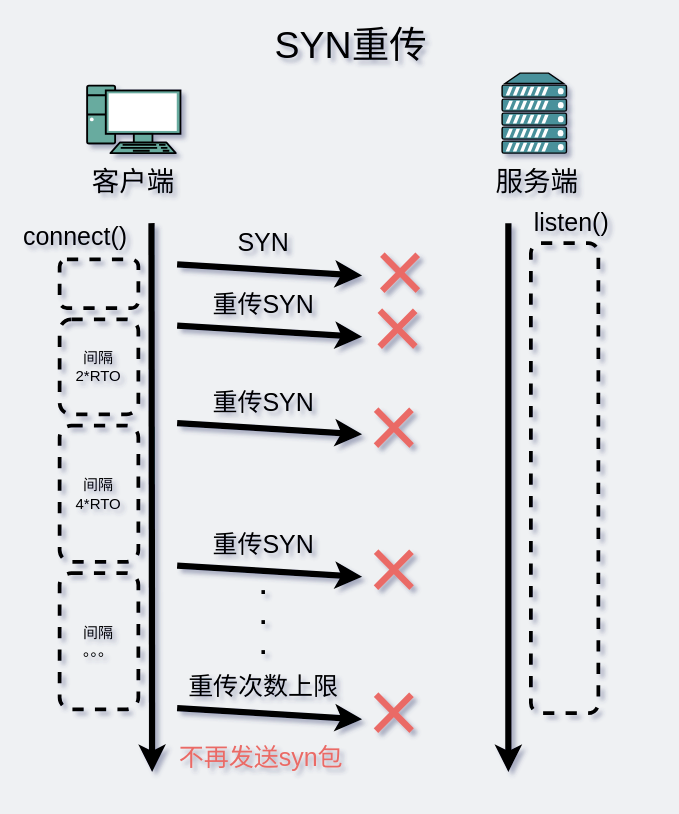
This 679x814 diagram has some shape labels left out. Each missing label, with the centre of its shape:
"LISTEN" goes at (x=564, y=477).
"间隔 RTO" goes at (x=98, y=283).
